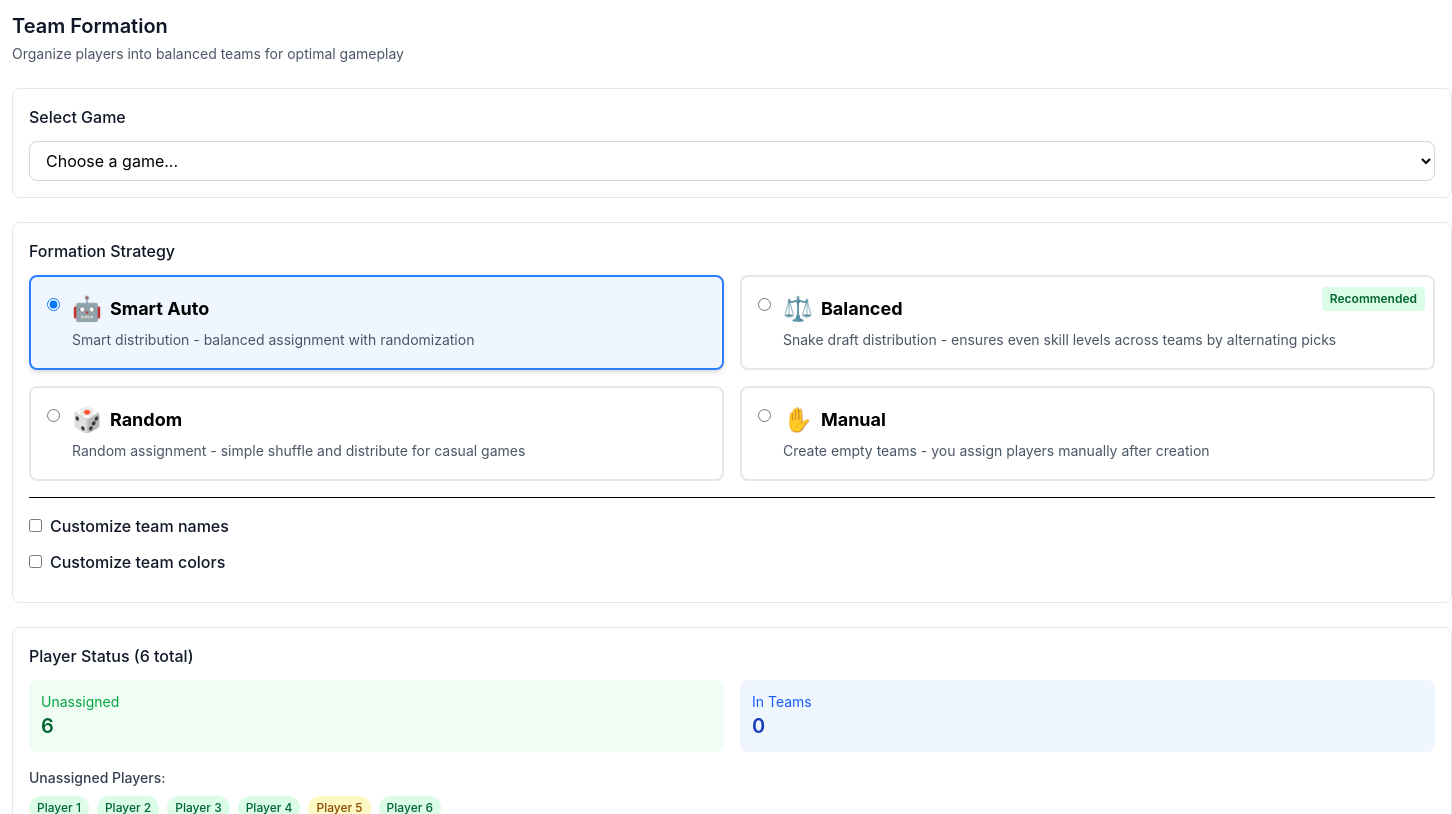
Scenario: TeamFormationInterface › Game Selection › should display game info when game is selected
The width and height of the screenshot is (1452, 814).
Select "Capture the Flag (4-12 players)" in the dropdown: (732, 161) [29,141,1435,181]
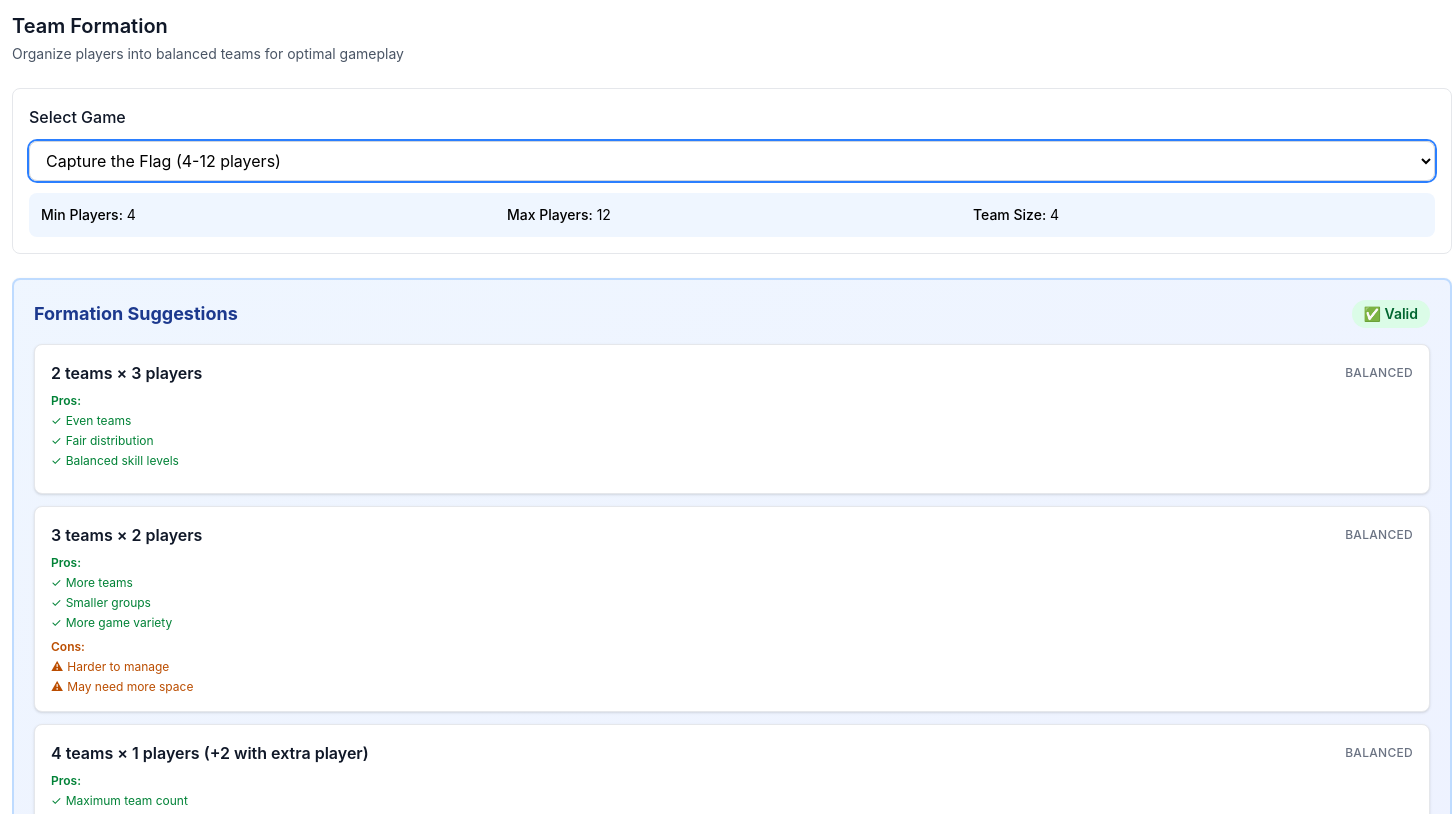
Result: the text "Min Players:" is shown at [41,206,123,223]
Result: the text "Max Players:" is shown at [507,206,593,223]
Result: the text "Team Size:" is shown at [973,206,1046,223]
